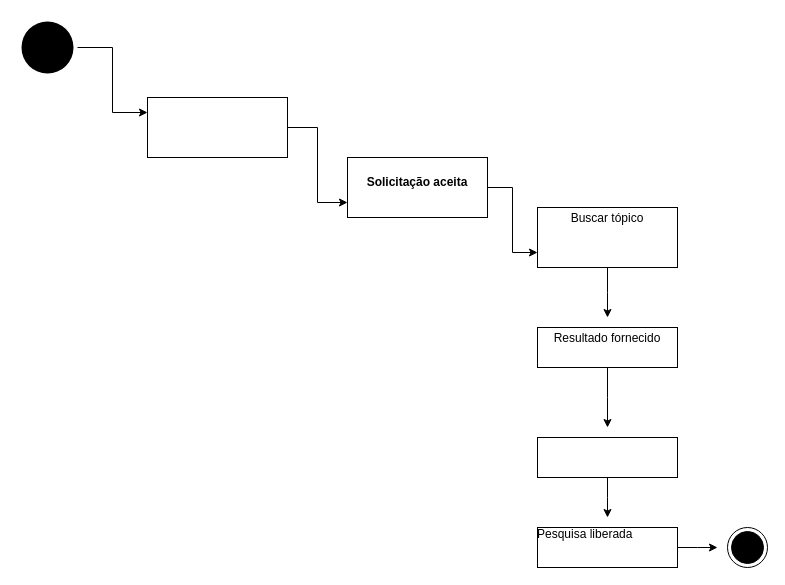
This 785x585 diagram has some shape labels left out. Each missing label, with the box of its shape:
Solicitando Login: (146, 96, 288, 158)
Solicitar Pesquisa Vocaional: (536, 436, 678, 478)
